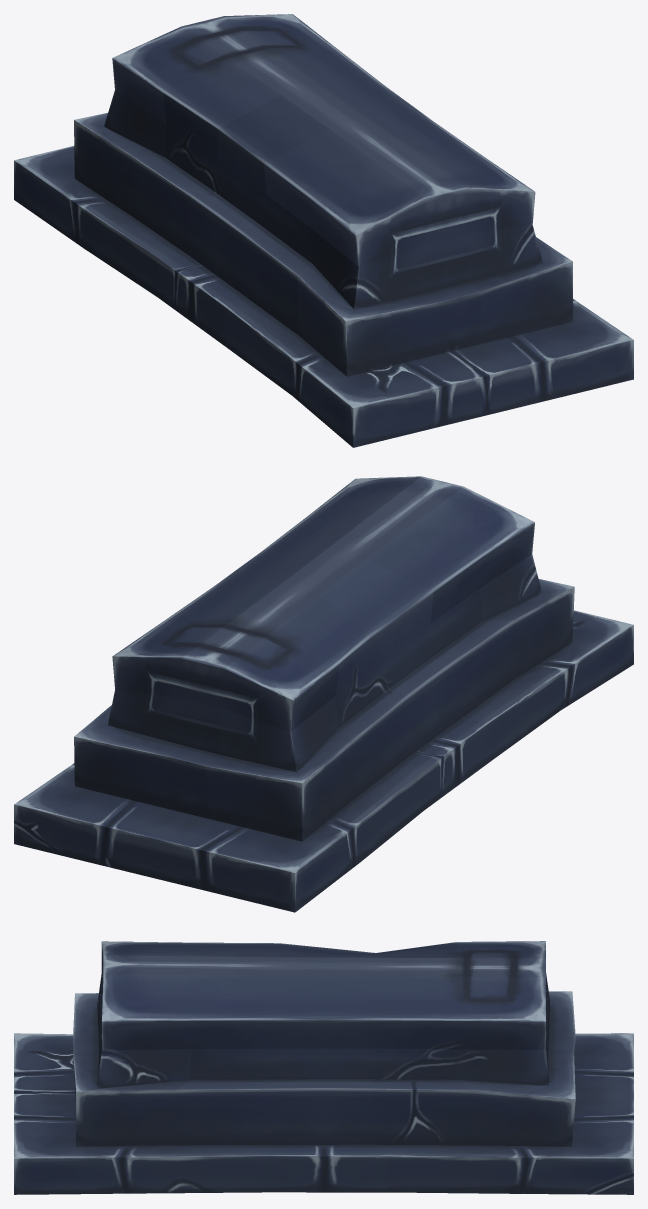
File: tomb_3.fbx
The picture shows the model from 3 angles, top to bottom: view 1: azimuth 30°, elevation 25°; view 2: azimuth 150°, elevation 25°; view 3: azimuth 270°, elevation 25°; orthographic projection. The views are drawn at different scales.
Parts seen in each view (by area): view 1: Cube.012; view 2: Cube.012; view 3: Cube.012.
Part boxes in pixels (x1,y1,x2,y2): Cube.012: [14, 14, 633, 447]; Cube.012: [14, 476, 633, 912]; Cube.012: [14, 941, 633, 1194].
Size of the model in its own units: 328 by 206 by 684.
